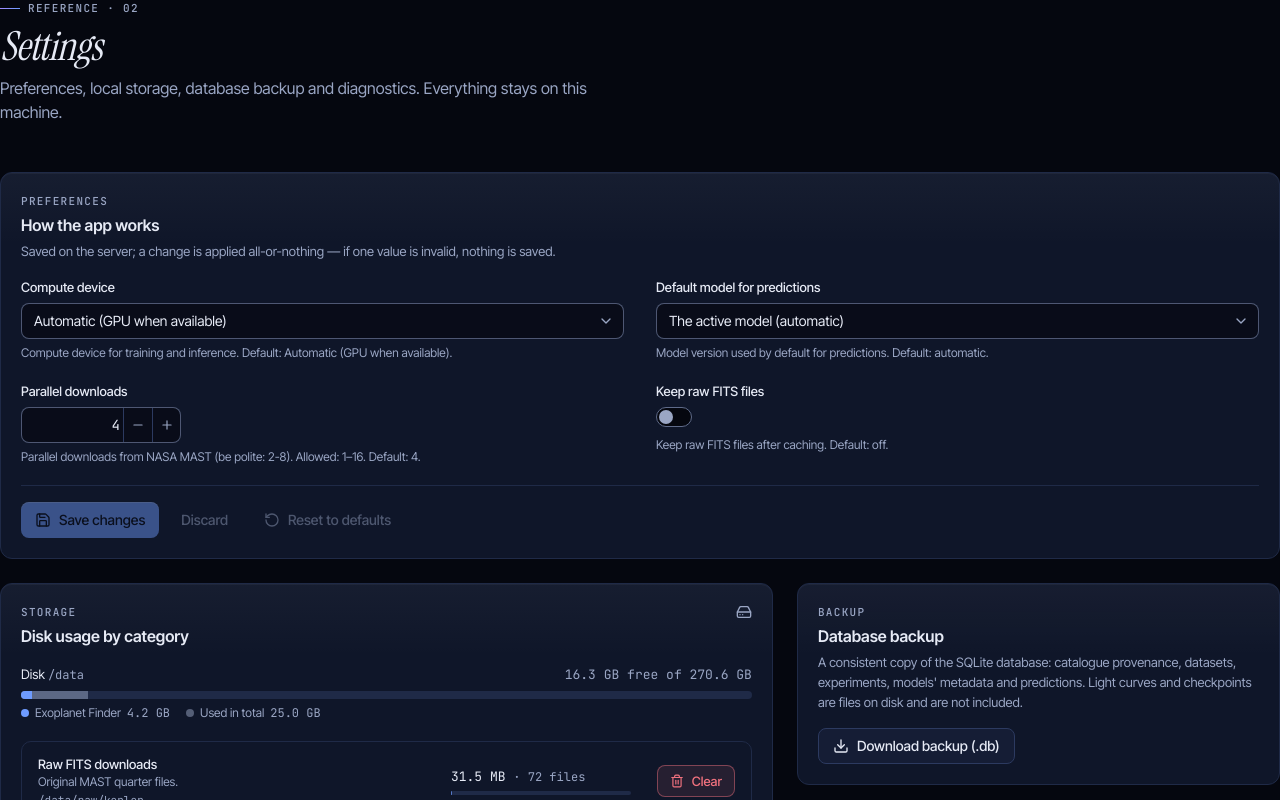
Test: Settings › clears a storage category only after confirmation
Click the button with aria-label "Clear Raw FITS downloads" at [696, 781], box [657, 765, 735, 797]
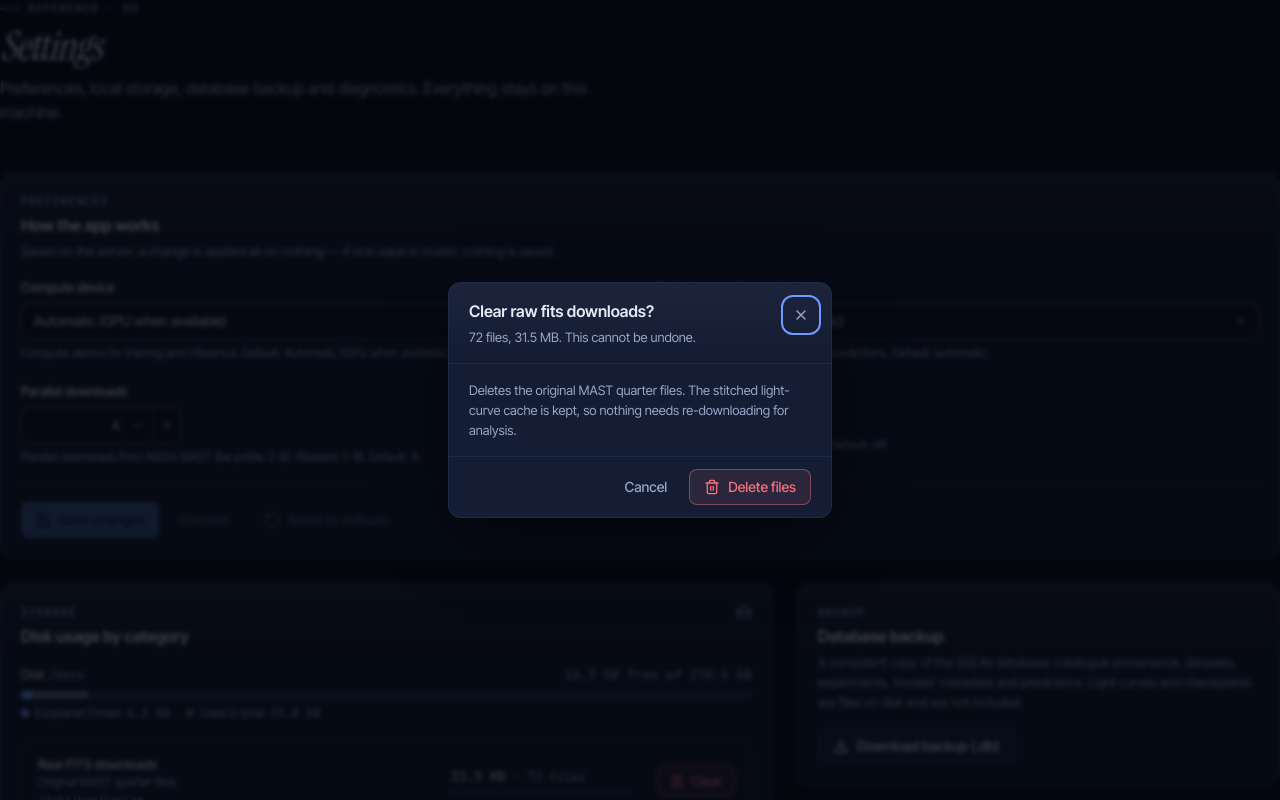
Result: the text "72 files, 31.5 MB. This cannot be undone." is shown at [469, 327, 696, 347]
Click the button "Cancel" at [646, 487], box [610, 469, 681, 505]
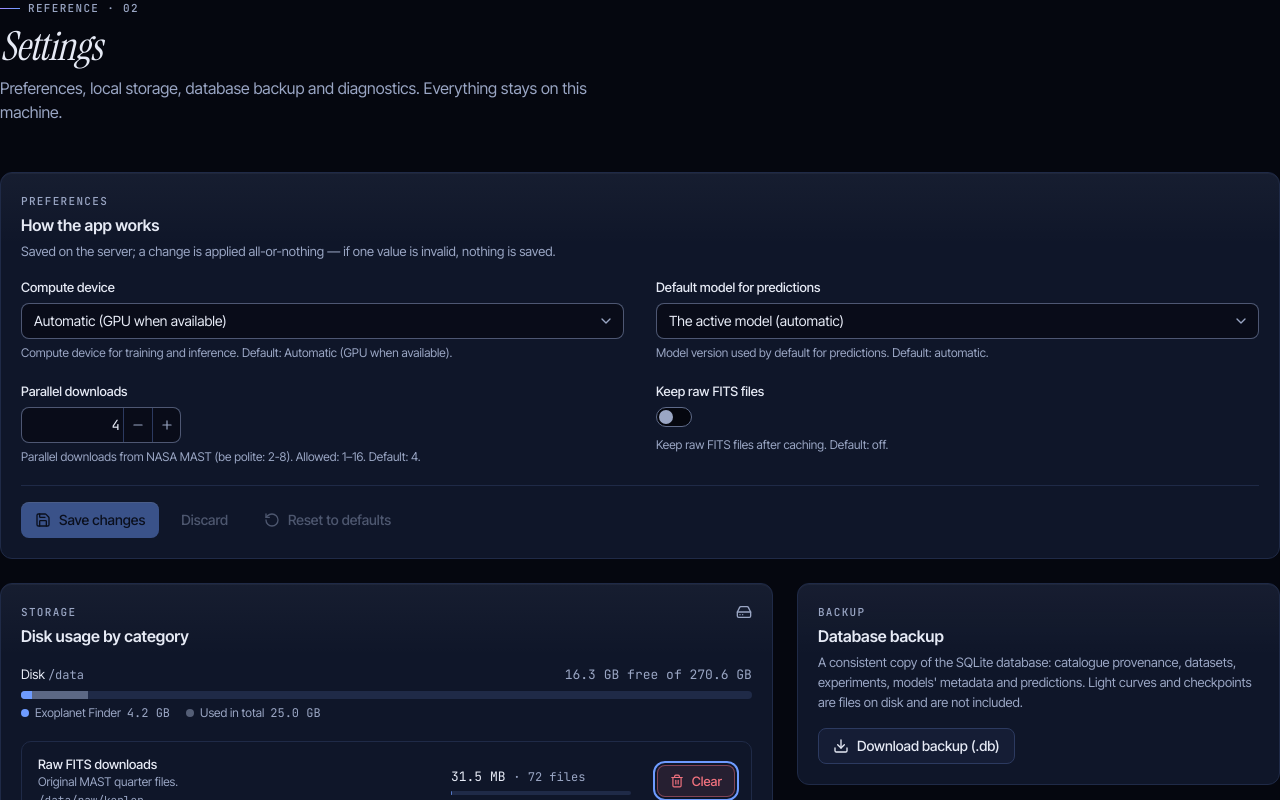
Click the button with aria-label "Clear Raw FITS downloads" at [696, 781], box [657, 765, 735, 797]
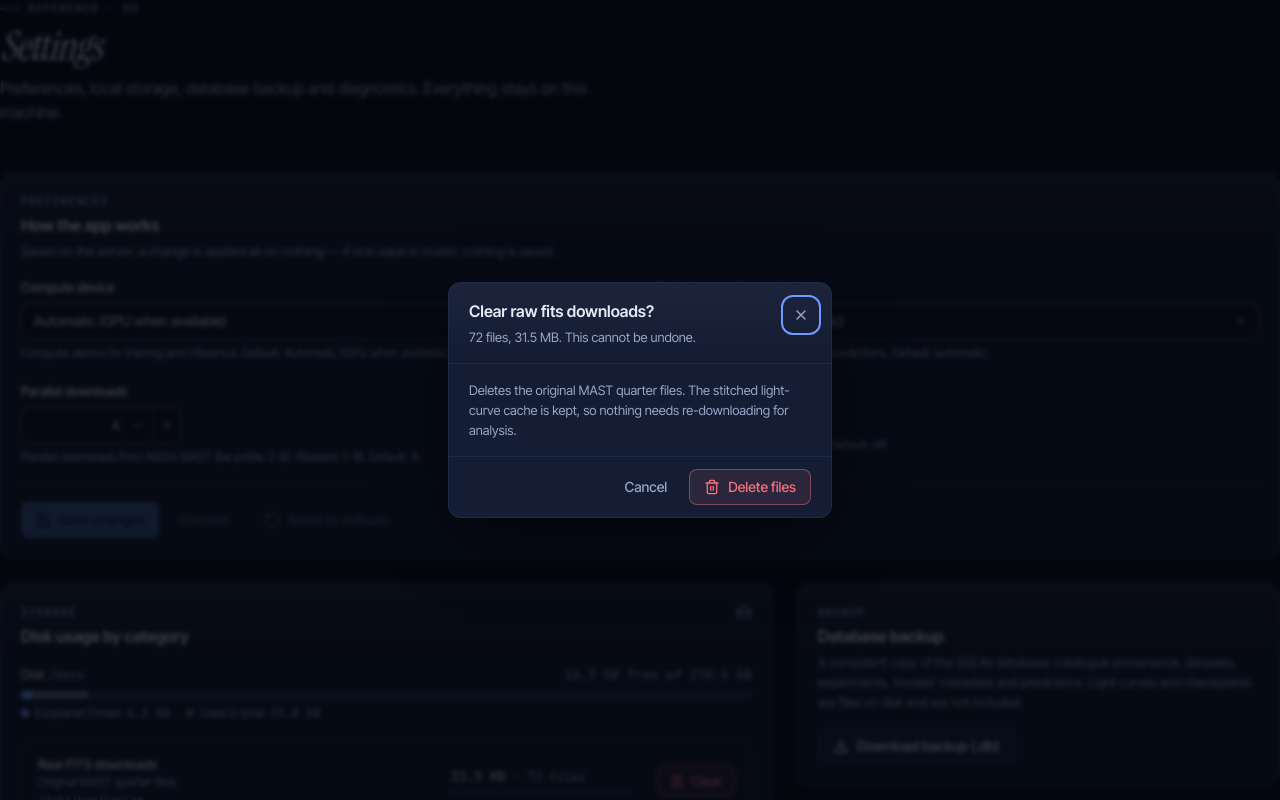
Click the button "Delete files" at [750, 487], box [689, 469, 811, 505]
(page scrolled)
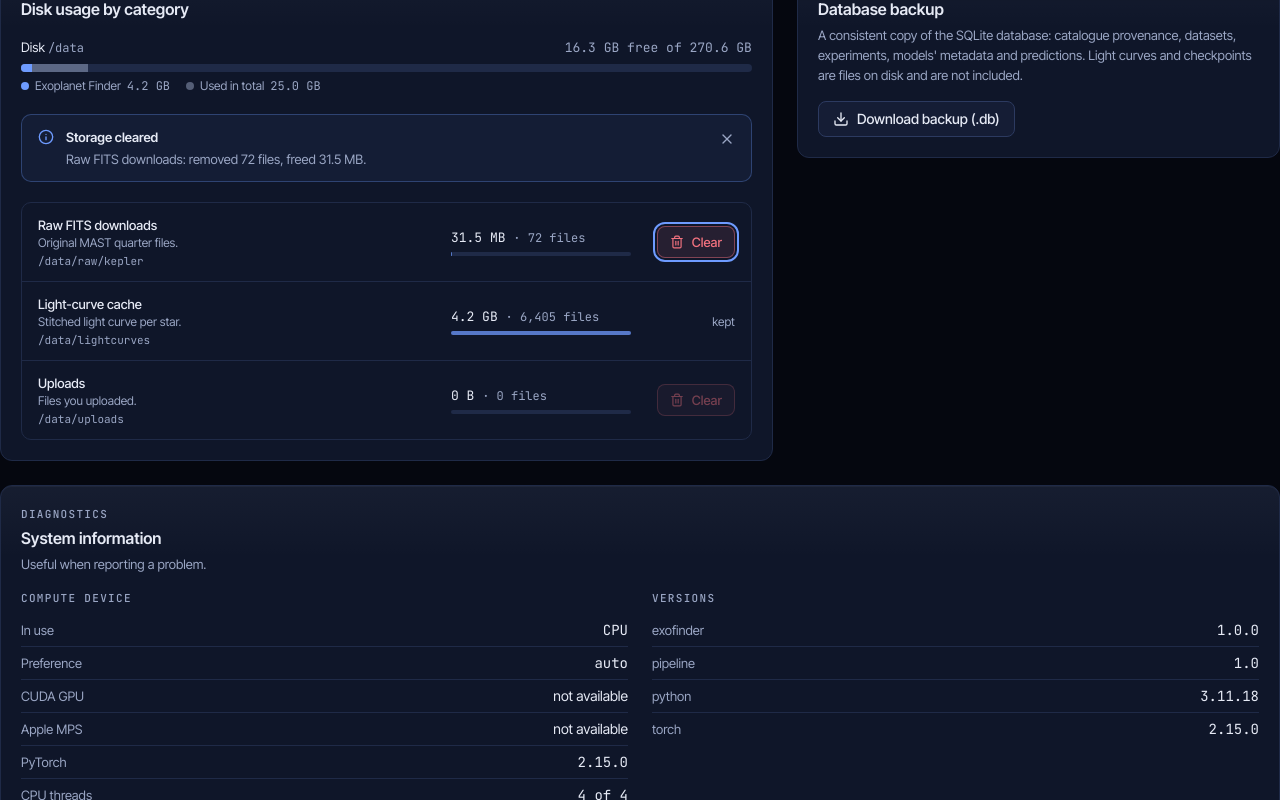
Expected: the button with aria-label "Clear Uploads" is disabled, [657, 384, 735, 416]
Result: the text "Raw FITS downloads: removed 72 files, freed 31.5 MB." is shown at [66, 151, 366, 167]
